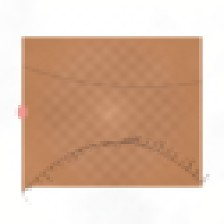pinguecula_lesion: (30, 104, 73, 138)
